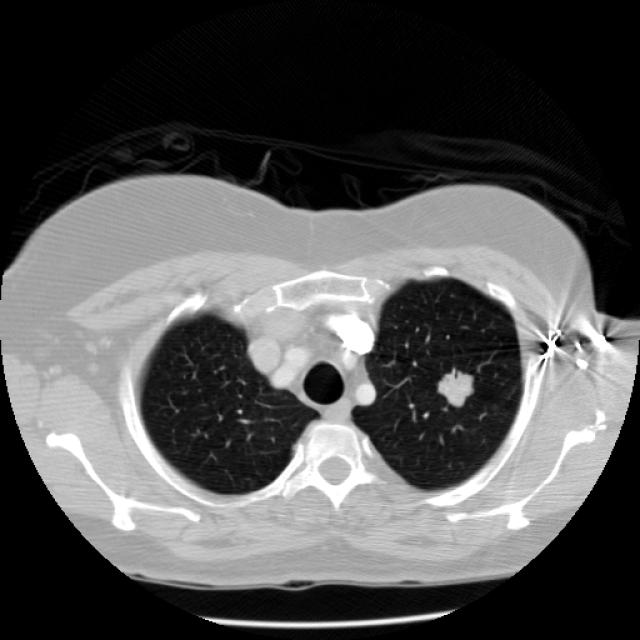nodule: (421, 354, 489, 421)
